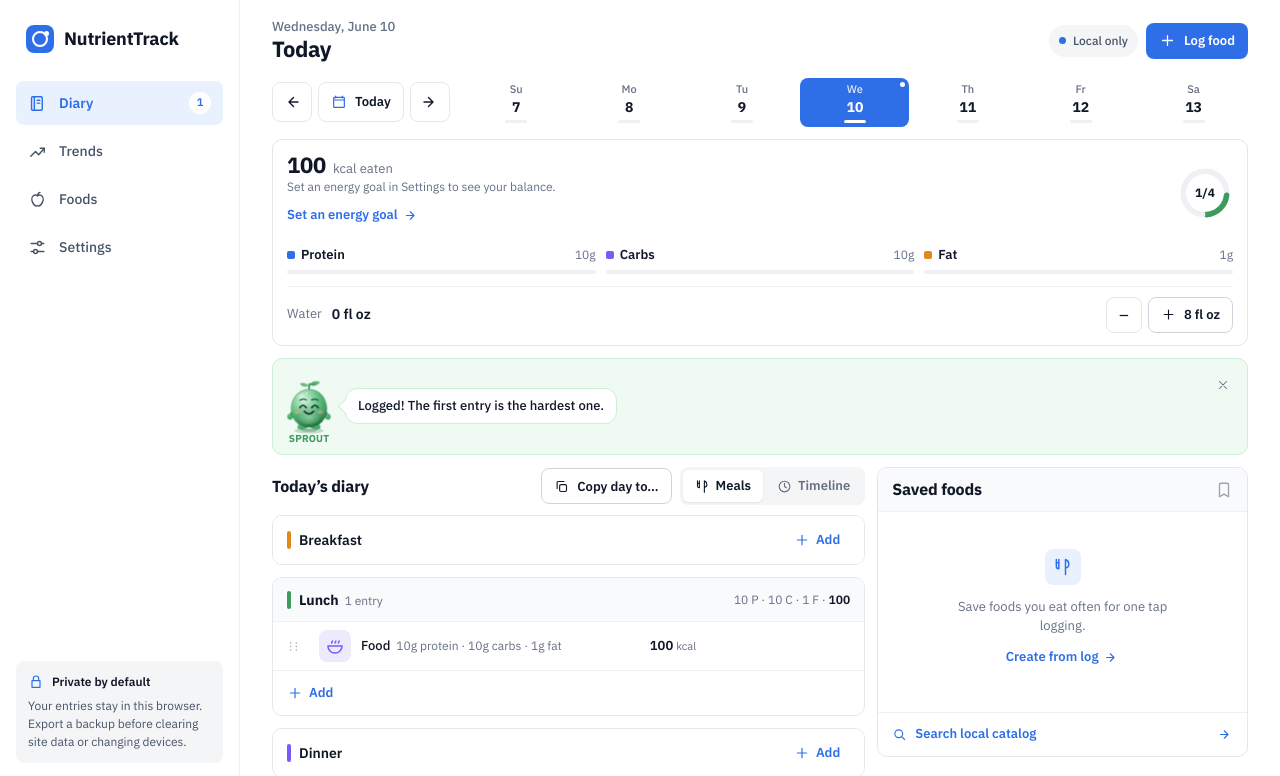
Nutrient contributors panel › shows_a_message_when_no_logged_food_recorded_the_nutrient
Click the button "Trends": [120, 151] box [16,129,223,173]
(page scrolled)
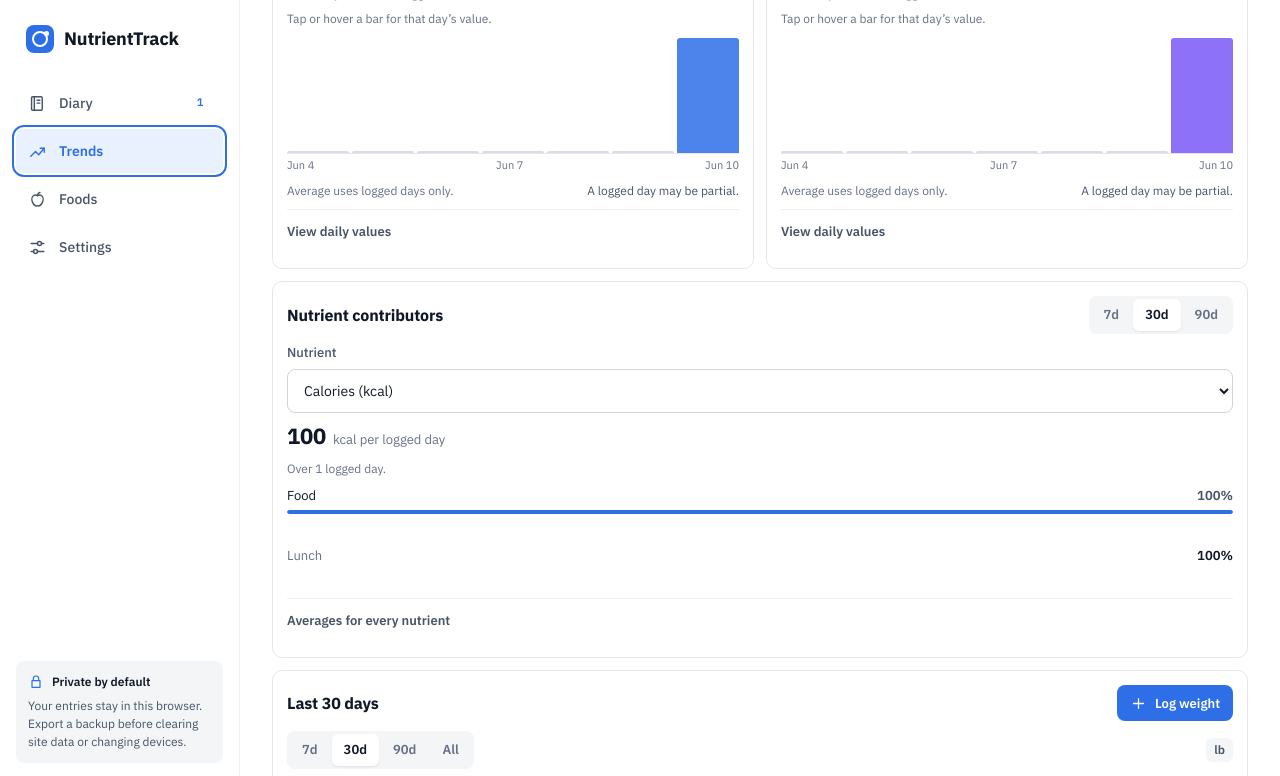
Select "Sodium (mg)" in the dropdown labelled "Nutrient": [760, 391] box [287,369,1233,413]
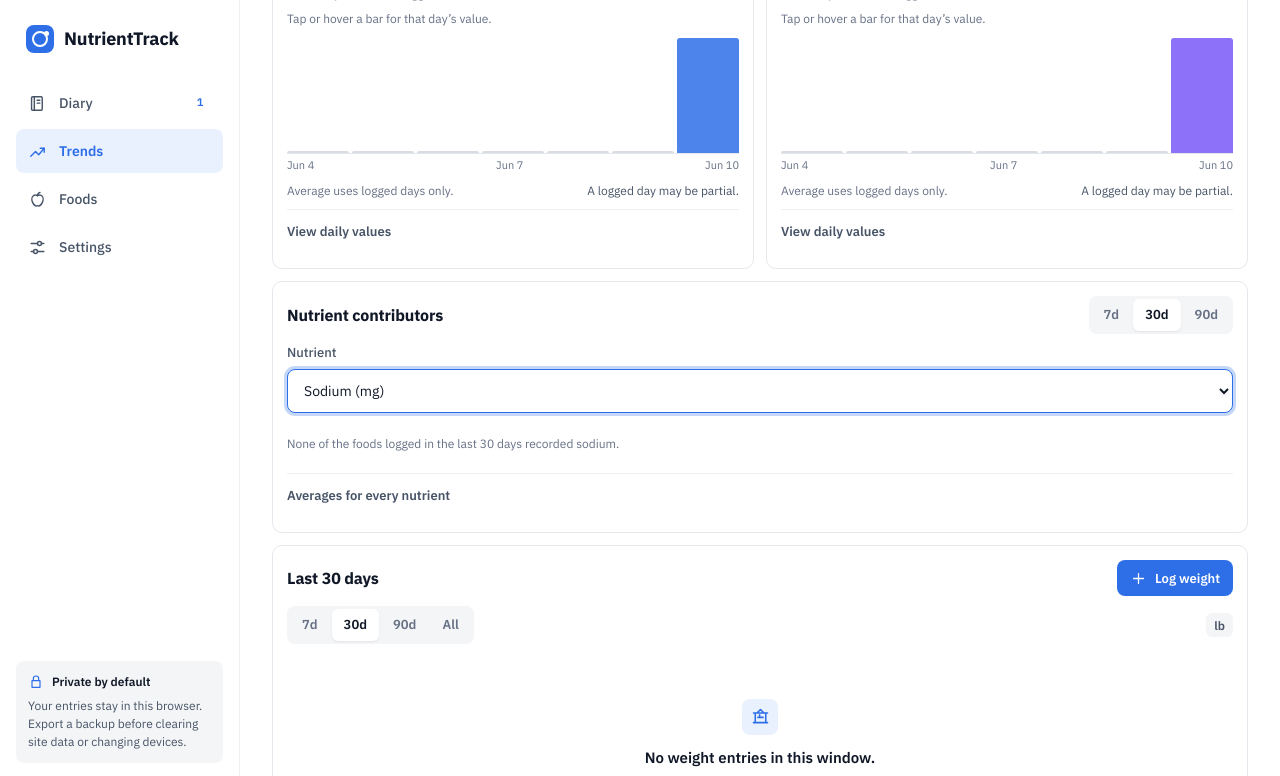
Expected: the text "None of the foods logged in the last 30 days recorded sodium." is shown, [287,436,619,451]
Expected: the element with class "contributor-average" is gone
